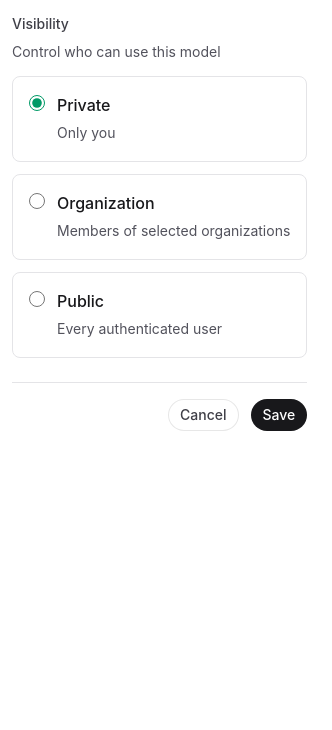
Scenario: ModelPermissionsPanel › Validation › requires at least one organization for org visibility
Click the label with test id "model-visibility-organization-option": (106, 203) [12, 174, 307, 260]
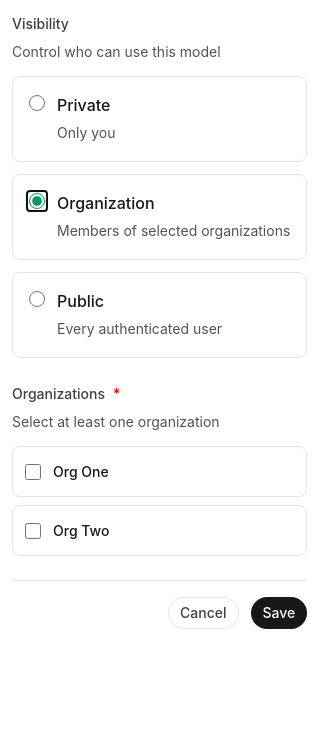
Click the button with test id "model-permissions-save-button": (279, 613) [250, 597, 307, 629]
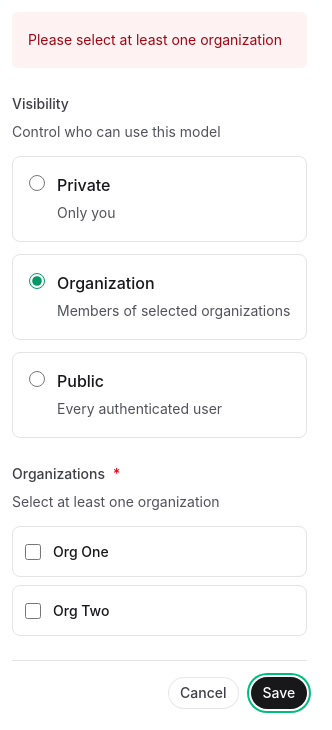
Result: the element with test id "model-permissions-error" is shown at [12, 12, 307, 68]
Result: the text "Please select at least one organization" is shown at [28, 28, 291, 52]
